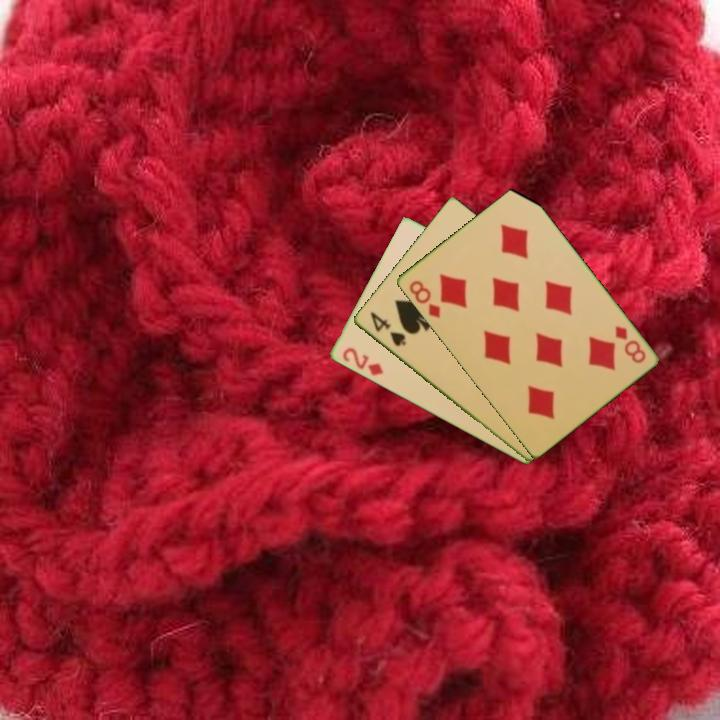2d: (339, 344, 386, 379)
4s: (366, 308, 409, 349)
8d: (405, 277, 443, 321), (611, 322, 649, 366)
